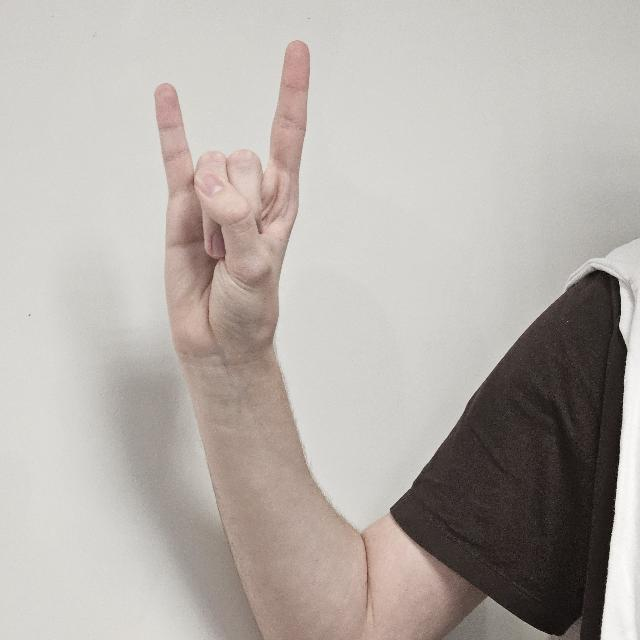L: (153, 40, 317, 402)
